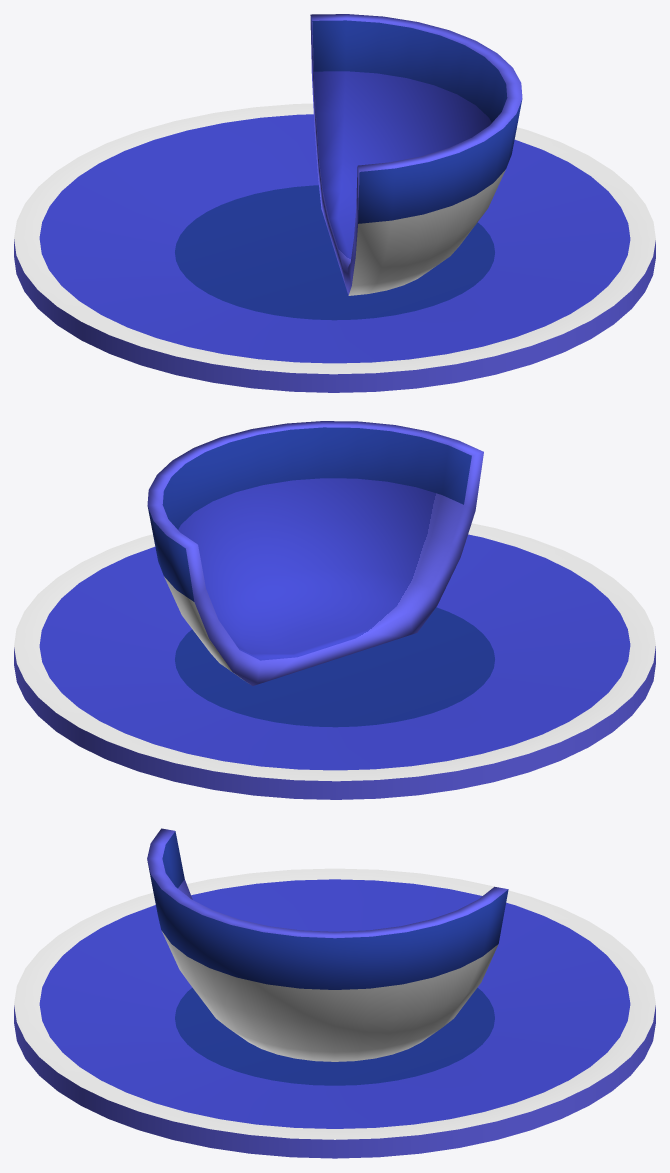
File: BlueScoop.fbx
3 renders of one model, top to bottom at view 1: azimuth 30°, elevation 25°; view 2: azimuth 150°, elevation 25°; view 3: azimuth 270°, elevation 25°, orthographic.
Parts seen in each view (by area): view 1: BlueScoopPlate, BlueScoopCup; view 2: BlueScoopPlate, BlueScoopCup; view 3: BlueScoopPlate, BlueScoopCup.
Part boxes in pixels (<box>): BlueScoopPlate: <box>14,103,655,392</box>; BlueScoopCup: <box>310,14,522,295</box>; BlueScoopPlate: <box>14,523,655,799</box>; BlueScoopCup: <box>147,421,483,685</box>; BlueScoopPlate: <box>14,868,655,1158</box>; BlueScoopCup: <box>147,828,508,1061</box>.
Bounding box in the file's own units: 6.22 × 6.22 × 1.75.
